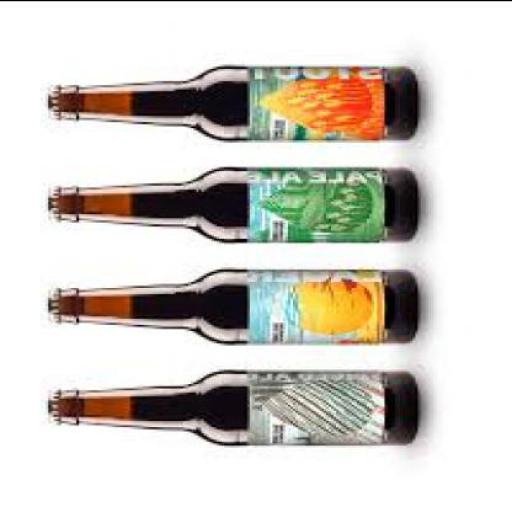glass: (56, 366, 418, 443), (56, 164, 418, 240), (56, 266, 415, 342), (56, 65, 413, 139)
metal: (46, 385, 59, 422), (44, 180, 54, 218), (46, 285, 56, 317), (46, 80, 54, 114)
